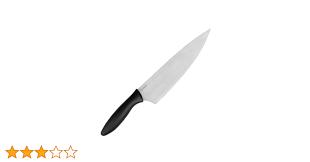Knife: (100, 27, 211, 136)
